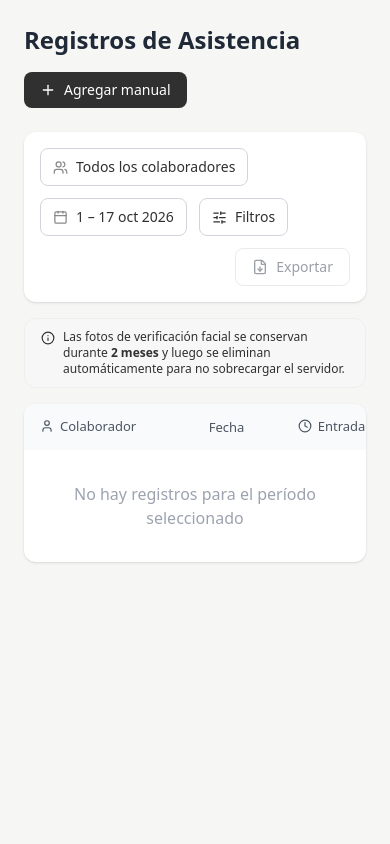
agregar una jornada a mano › sin la persona elegida no hay horario que traer
Click the button "Agregar manual" at coordinates (105, 90), box x1=24 y1=72 x2=187 y2=108
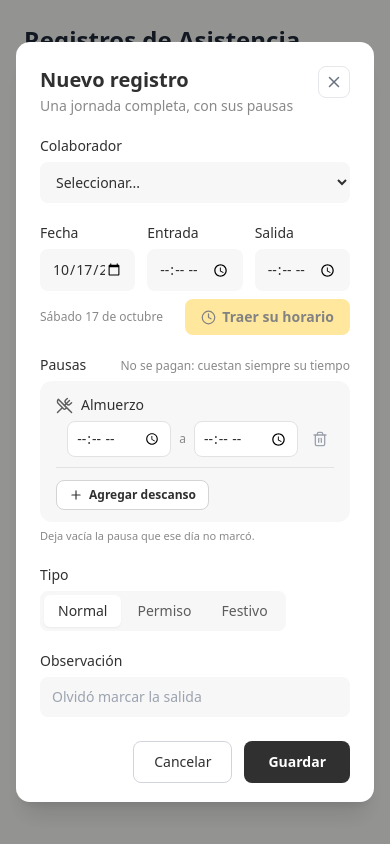
expect the button "Traer su horario" is disabled: met, box x1=185 y1=299 x2=350 y2=335
